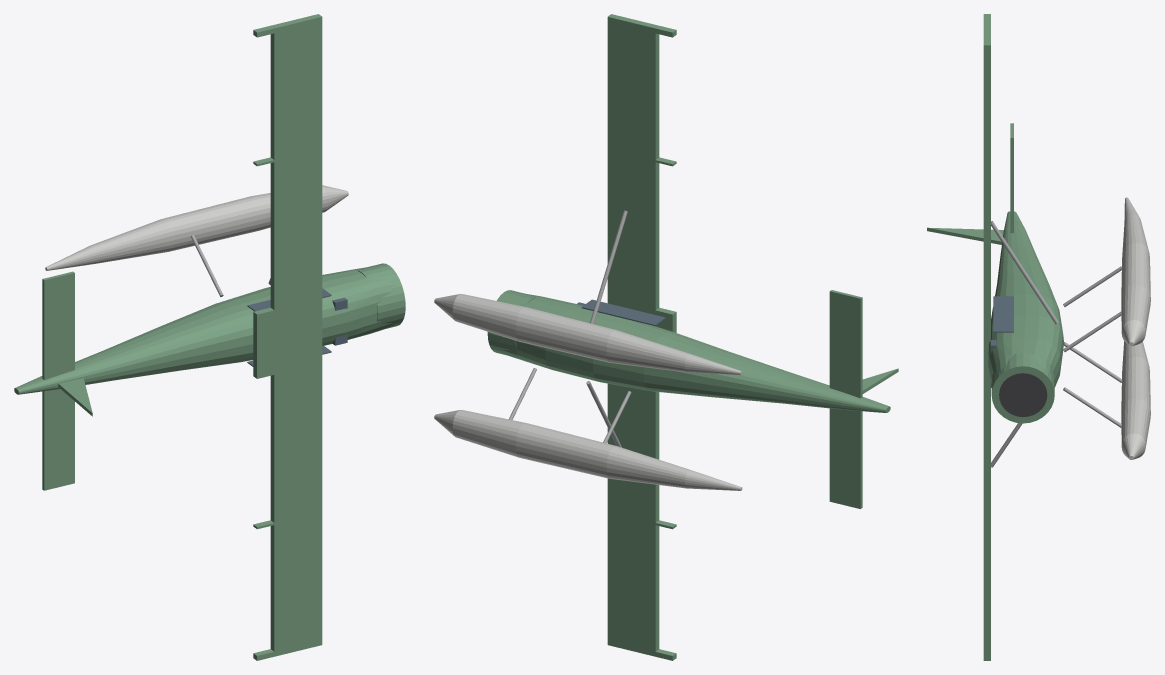
The model's file is beaver_body_green.glb.
3 views of the same model, side by side, from view 1: azimuth 30°, elevation 25°; view 2: azimuth 150°, elevation 25°; view 3: azimuth 270°, elevation 25° (orthographic). The views are drawn at different scales.
Visible parts, largest first — view 1: part15, part16, part0, part21, part19, part1, part20; view 2: part15, part16, part0, part24, part21, part19, part13, part1; view 3: part0, part21, part24, part15, part16, part1, part2, part13, part20, part17, part19.
Part boxes in pixels (left/top/right/bottom): part15: left=253, top=14, right=322, bottom=346; part16: left=253, top=331, right=322, bottom=660; part0: left=14, top=267, right=395, bottom=394; part21: left=45, top=185, right=348, bottom=270; part19: left=42, top=271, right=74, bottom=490; part1: left=357, top=263, right=405, bottom=328; part20: left=58, top=378, right=92, bottom=416; part15: left=607, top=14, right=676, bottom=332; part16: left=607, top=383, right=676, bottom=660; part0: left=498, top=294, right=890, bottom=412; part24: left=434, top=410, right=742, bottom=490; part21: left=434, top=294, right=742, bottom=374; part19: left=829, top=290, right=862, bottom=508; part13: left=581, top=299, right=665, bottom=326; part1: left=487, top=290, right=535, bottom=354; part0: left=988, top=211, right=1063, bottom=387; part21: left=1121, top=197, right=1150, bottom=346; part24: left=1121, top=341, right=1150, bottom=459; part15: left=983, top=14, right=990, bottom=352; part16: left=983, top=353, right=990, bottom=660; part1: left=991, top=353, right=1054, bottom=423; part2: left=999, top=373, right=1047, bottom=416; part13: left=993, top=296, right=1013, bottom=332; part20: left=927, top=227, right=1003, bottom=244; part17: left=991, top=221, right=1058, bottom=324; part19: left=1010, top=123, right=1013, bottom=233.
Bounding box in the file's own units: 9.55 × 14.63 × 4.82.
